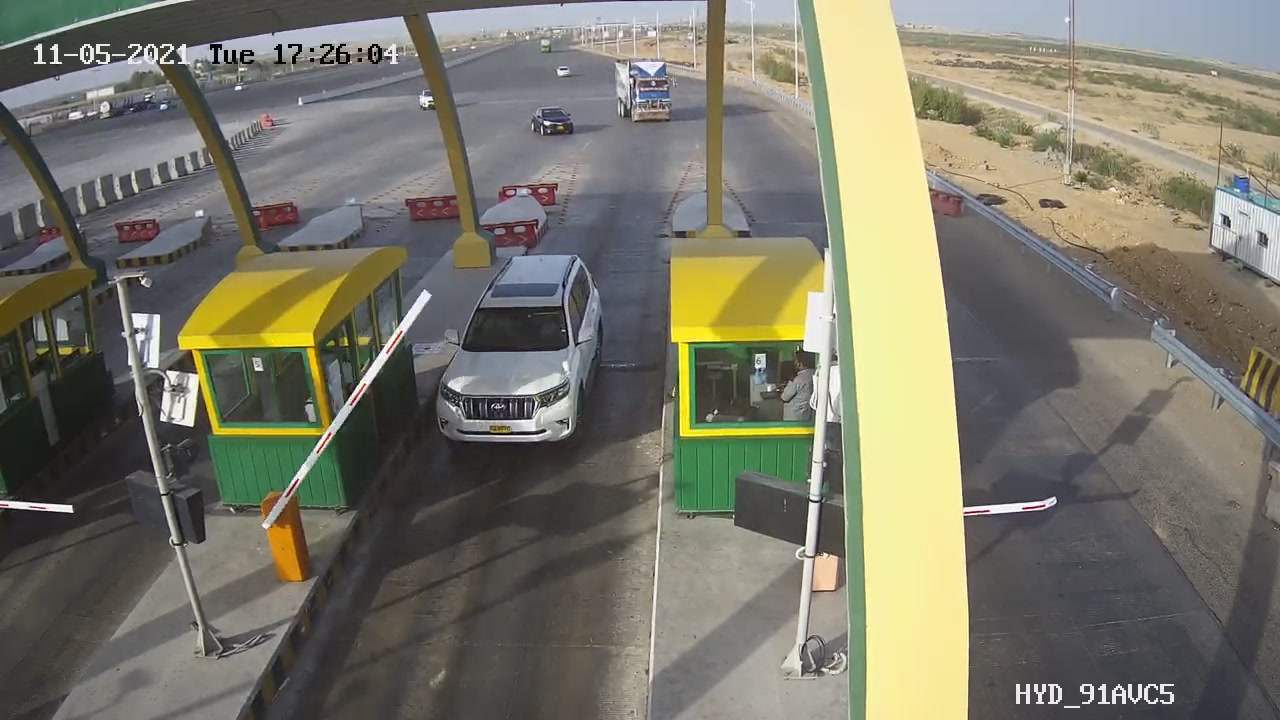F1: (417, 239, 630, 470)
